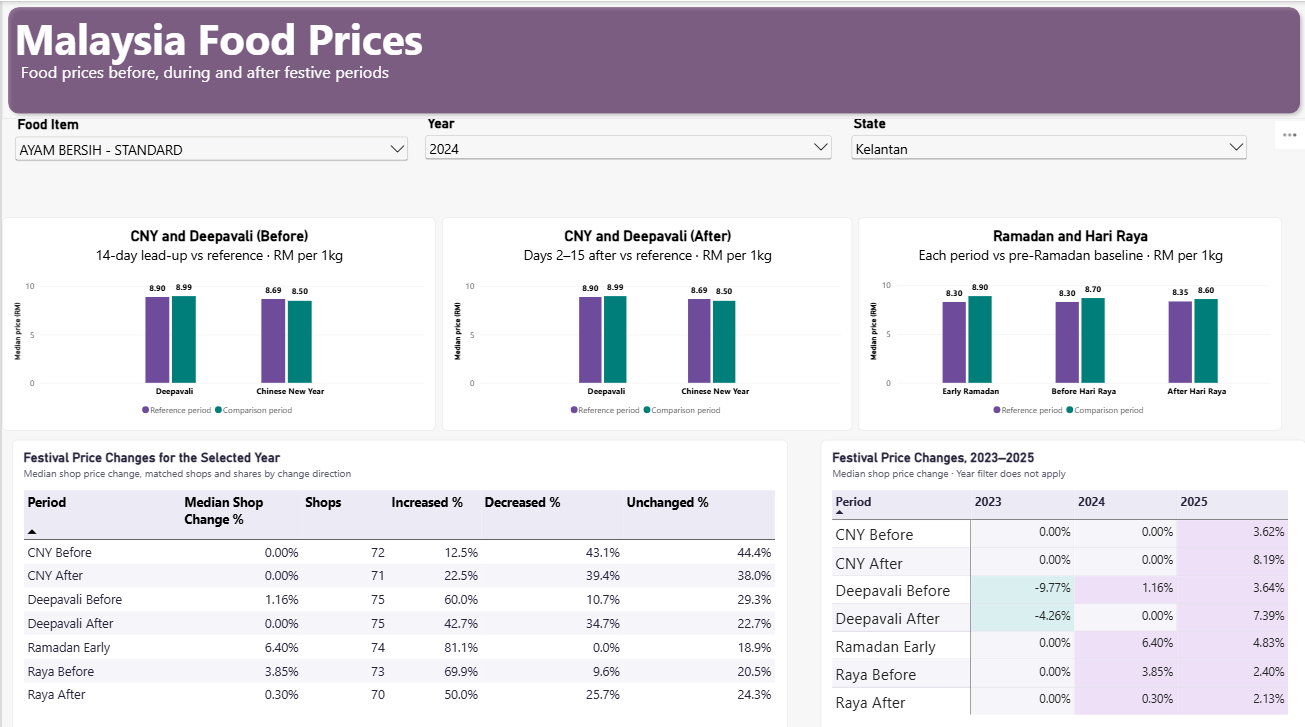

Layout of this report page (visuals, bound fields, positions):
{"tool":"powerbi","page":{"name":"Festival Analysis","canvas":[1920,1080],"ordinal":1},"visuals":[{"type":"slicer","fields":{"Values":["DimItem.item"]},"box":[14,170,588,134],"z":0},{"type":"slicer","fields":{"Values":["FestivalPrices.state"]},"box":[1246,168,592,136],"z":1000},{"type":"clusteredColumnChart","title":"CNY and Deepavali (Before)","fields":{"Category":["FestivalPrices.Festival Label"],"Y":["Avg(FestivalPrices.median_shop_reference_price)","Avg(FestivalPrices.median_shop_target_price)"]},"box":[0,318,638,314],"z":2000},{"type":"clusteredColumnChart","title":"Ramadan and Hari Raya","fields":{"Category":["FestivalPrices.Period Label"],"Y":["Avg(FestivalPrices.median_shop_reference_price)","Avg(FestivalPrices.median_shop_target_price)"]},"box":[1260,318,624,314],"z":3000},{"type":"slicer","fields":{"Values":["DimYear.Year"]},"box":[618,168,608,136],"z":4000},{"type":"clusteredColumnChart","title":"CNY and Deepavali (After)","fields":{"Category":["FestivalPrices.Festival Label"],"Y":["Avg(FestivalPrices.median_shop_reference_price)","Avg(FestivalPrices.median_shop_target_price)"]},"box":[647,318,604,314],"z":5000},{"type":"tableEx","title":"Festival Price Changes for the Selected Year","fields":{"Values":["FestivalPrices.Comparison Label","FestivalPrices.Median Shop Change %","FestivalPrices.Matched Shops","FestivalPrices.Shops Increased %","FestivalPrices.Shops Decreased %","FestivalPrices.Shops Unchanged %"]},"box":[14,646,1142,434],"z":6000},{"type":"pivotTable","title":"Festival Price Changes, 2023–2025","fields":{"Columns":["FestivalPrices.year"],"Rows":["FestivalPrices.Comparison Label"],"Values":["FestivalPrices.Median Shop Change %"]},"box":[1205.5,646,714,434],"z":7000},{"type":"shape","box":[0,0,1920.4,175],"z":8000},{"type":"textbox","box":[28,88,818,64],"z":9000}]}

Visuals, with their boxes in screenshot pixels (x1, y1, x2, y2), scaled from the page's 1920x1080 canvas onto the 1305x727 screenshot:
slicer - DimItem.item: [10,114,409,205]
slicer - FestivalPrices.state: [847,113,1249,205]
"CNY and Deepavali (Before)" clusteredColumnChart: [0,214,434,425]
"Ramadan and Hari Raya" clusteredColumnChart: [856,214,1281,425]
slicer - DimYear.Year: [420,113,833,205]
"CNY and Deepavali (After)" clusteredColumnChart: [440,214,850,425]
"Festival Price Changes for the Selected Year" tableEx: [10,435,786,726]
"Festival Price Changes, 2023–2025" pivotTable: [819,435,1304,726]
shape: [0,0,1304,118]
textbox: [19,59,575,102]
